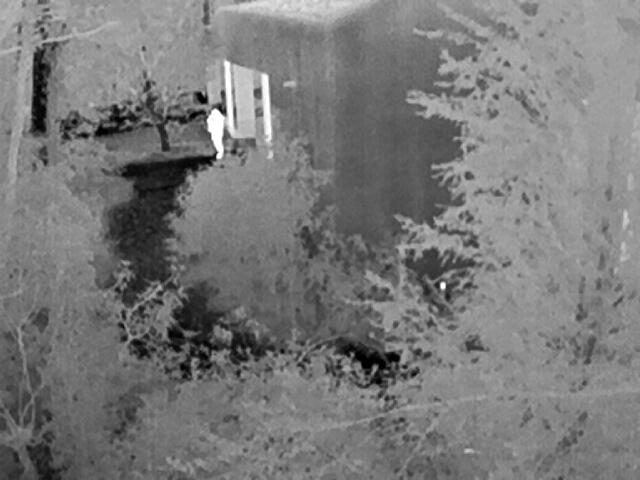person: (205, 107, 224, 159)
